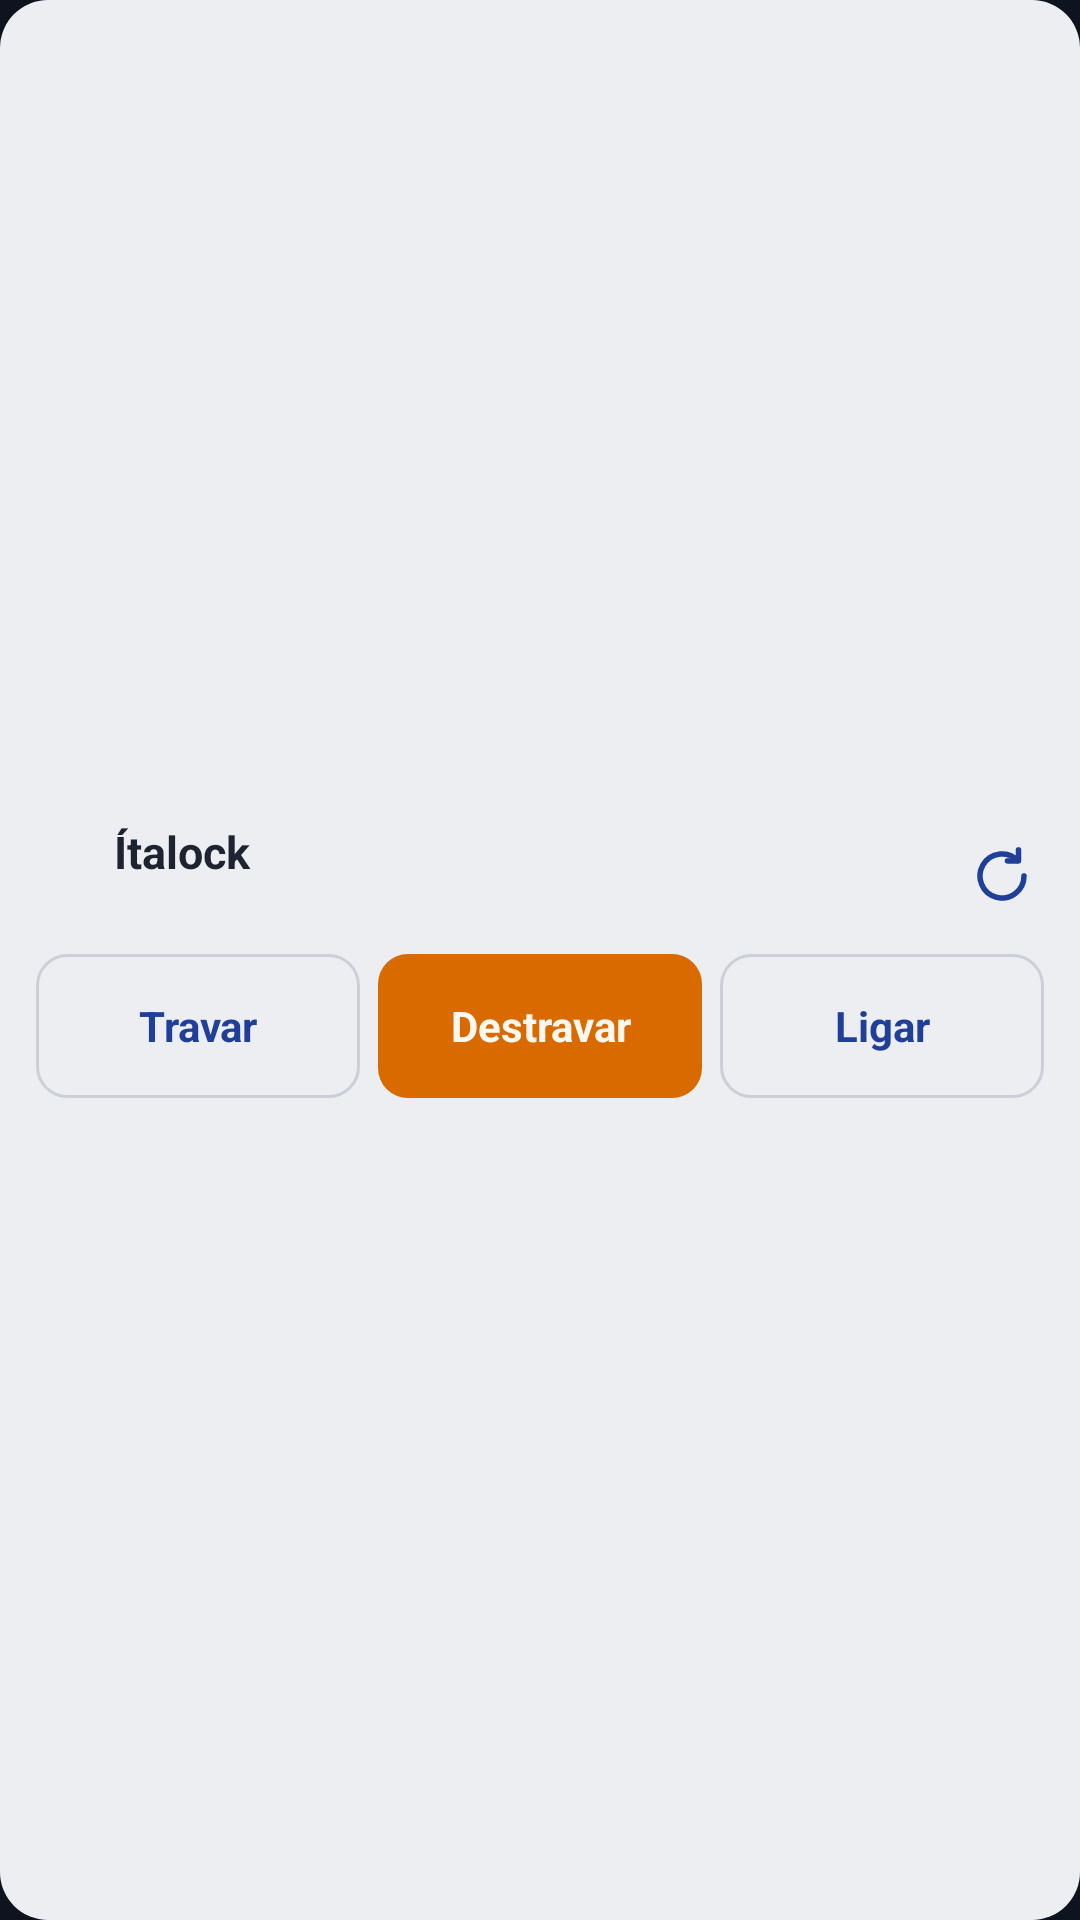

Where to tap for icons on this 1080 × 1920 app screen, as (x,y):
Atualizar cadeado: (1002,874)
